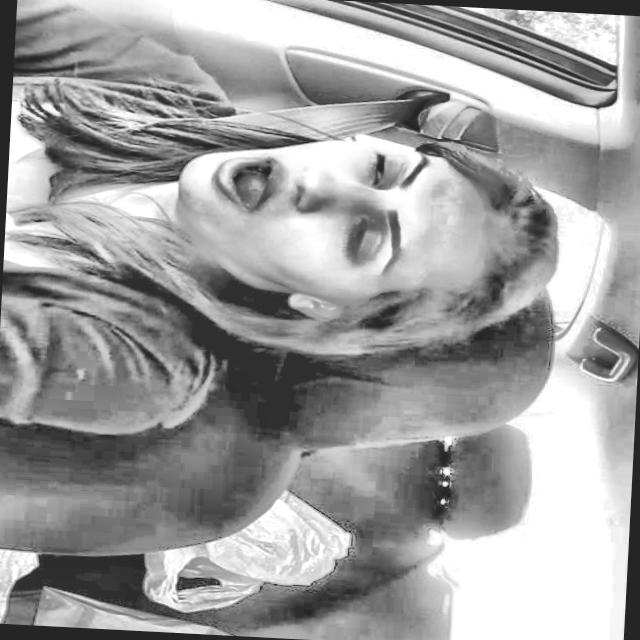closed_eyes: (335, 203, 381, 279), (358, 139, 409, 196)
open_mouth: (198, 143, 293, 225)
